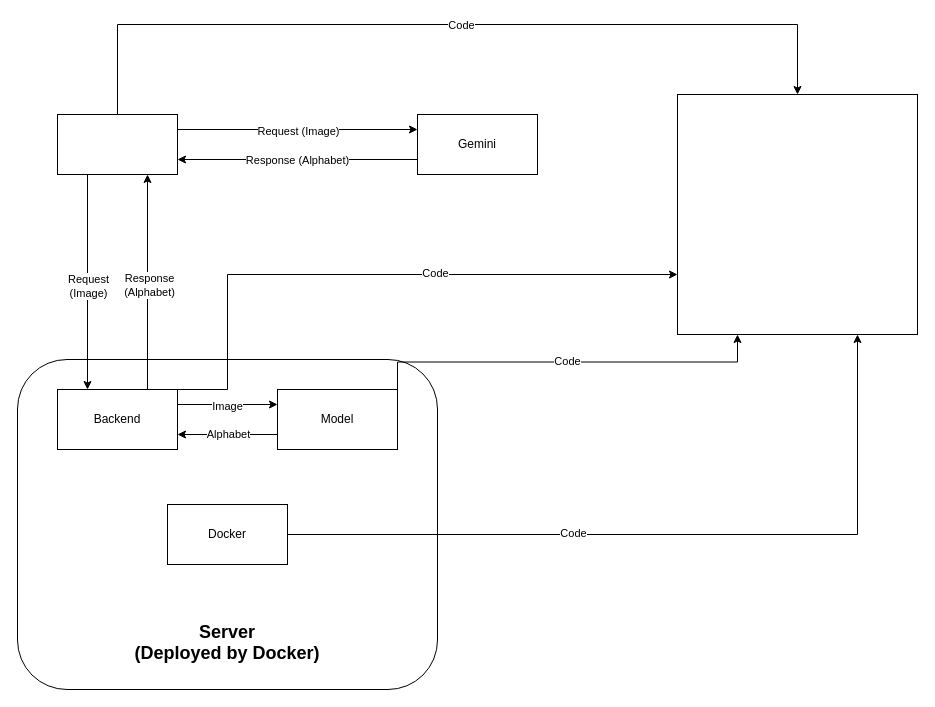
Image size: 935x707. Some labels were removed from this diagram. The centre of each missing label's shape, as x and y in pixels:
"Flutter App" goes at point 117,144.
"GitHub" goes at point 797,214.
